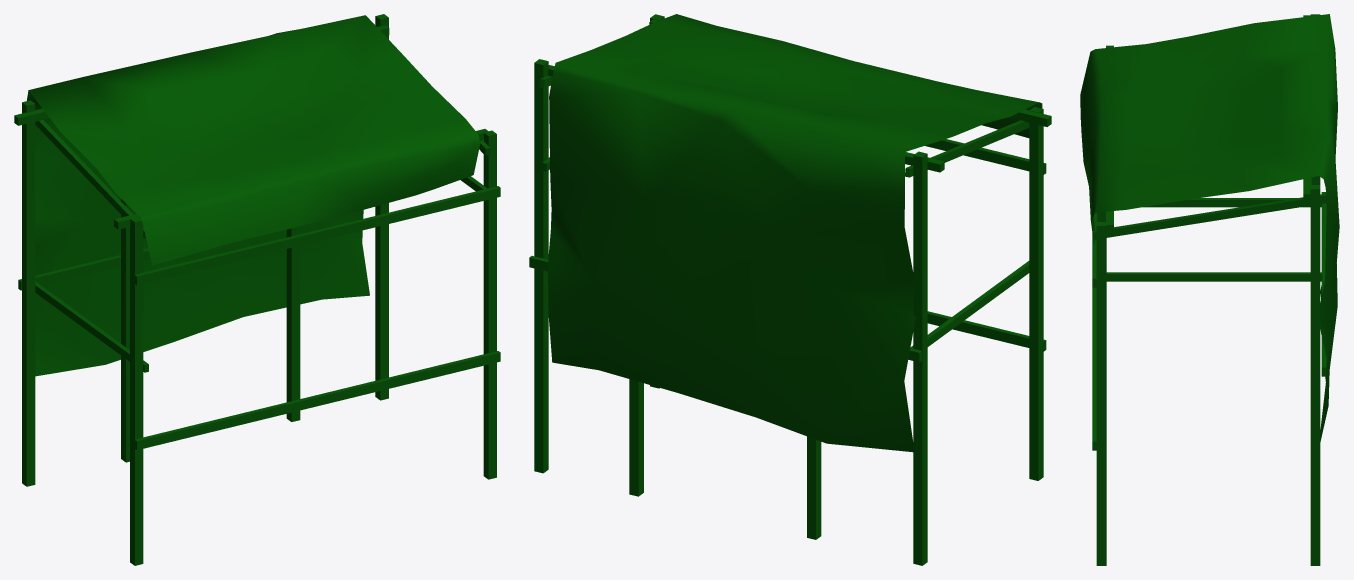
The model's file is Structure01Att.FBX.
The picture shows the model from 3 angles, left to right: view 1: azimuth 30°, elevation 25°; view 2: azimuth 150°, elevation 25°; view 3: azimuth 270°, elevation 25°; orthographic projection. The views are drawn at different scales.
Visible parts, largest first — view 1: SM_structure01Att_00; view 2: SM_structure01Att_00; view 3: SM_structure01Att_00.
Boxes of the visible parts, bbox=[...] form: SM_structure01Att_00: bbox=[14, 14, 500, 565]; SM_structure01Att_00: bbox=[529, 14, 1051, 565]; SM_structure01Att_00: bbox=[1080, 14, 1339, 565].
Bounding box in the file's own units: 263 × 159 × 259.
